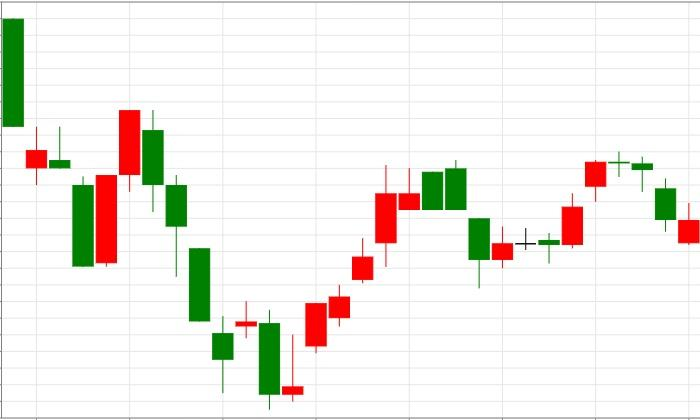three_black_crows_fall: (72, 109, 211, 323)
